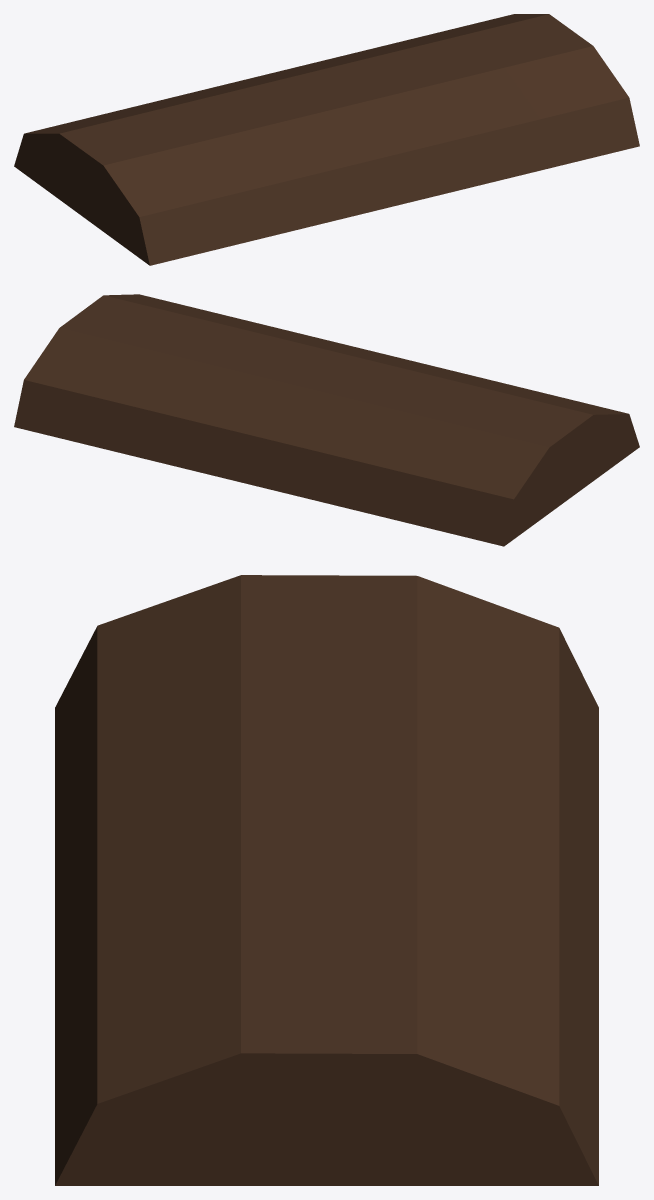
The model's file is TT_Train_CarriageRoof.fbx.
3 renders of one model, top to bottom at view 1: azimuth 30°, elevation 25°; view 2: azimuth 150°, elevation 25°; view 3: azimuth 270°, elevation 25°, orthographic. The views are drawn at different scales.
Parts seen in each view (by area): view 1: Train_carriage_Roof; view 2: Train_carriage_Roof; view 3: Train_carriage_Roof.
Part boxes in pixels (x1,y1,x2,y2): Train_carriage_Roof: (14, 14, 639, 265); Train_carriage_Roof: (14, 294, 639, 546); Train_carriage_Roof: (55, 575, 598, 1185).
Size of the model in its own units: 1739 by 229 by 836.
